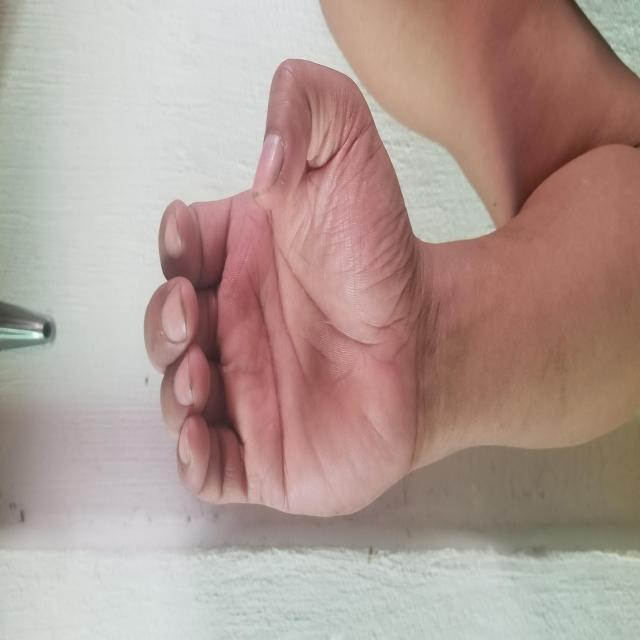E: (124, 143, 584, 411)
